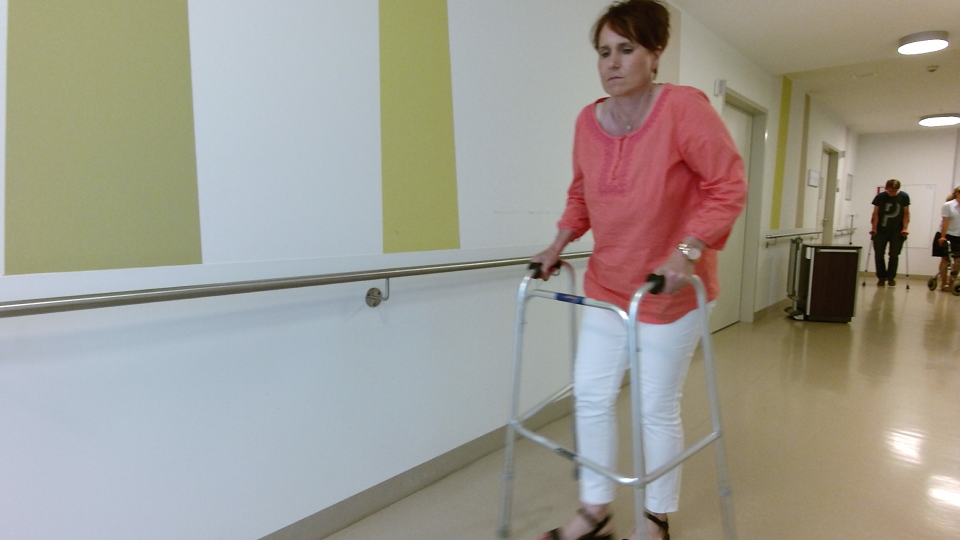crutches: (857, 174, 915, 293)
